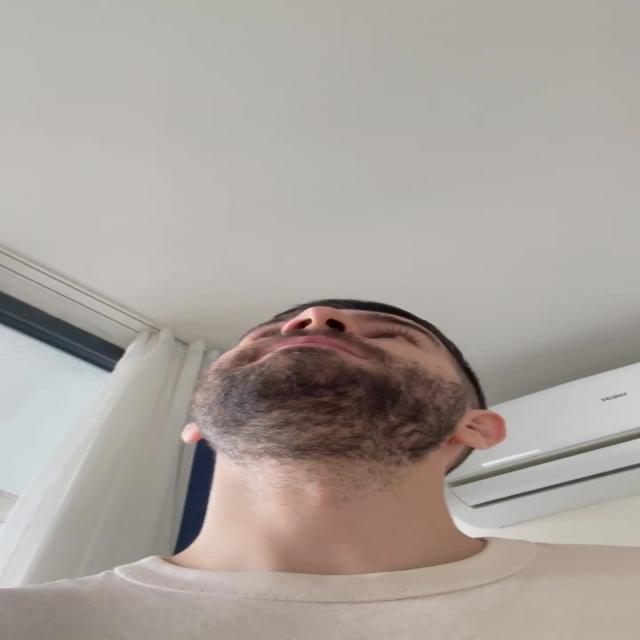earlobe: (460, 410, 506, 450)
